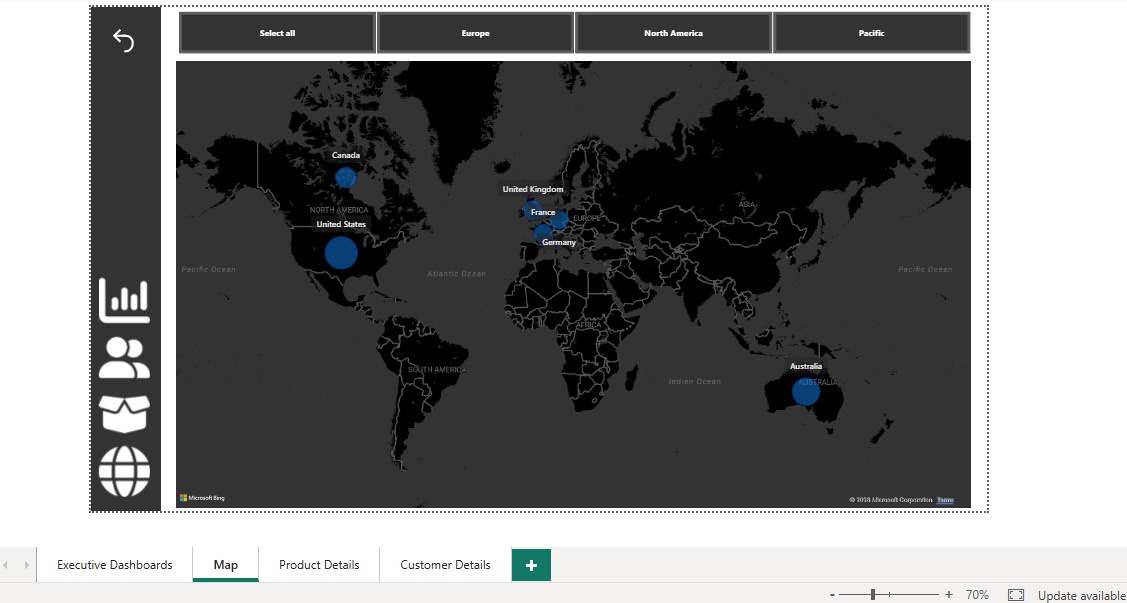

Layout of this report page (visuals, bound fields, positions):
{"tool":"powerbi","page":{"name":"Map","canvas":[1280,720],"ordinal":1},"visuals":[{"type":"shape","title":"Left Nav","box":[0,0,100,720],"z":0},{"type":"map","fields":{"Category":["teritorry_VW.Country"],"Size":["Measure.Total Orders"]},"box":[117.5,72.5,1145,647.5],"z":1000},{"type":"slicer","fields":{"Values":["teritorry_VW.Continent"]},"box":[100,0,1180,72.5],"z":2000},{"type":"actionButton","box":[24.3,22.9,44.3,50],"z":2001},{"type":"actionButton","box":[7.1,460,85.7,81.4],"z":2002},{"type":"actionButton","box":[7.1,378.6,85.7,81.4],"z":2003},{"type":"actionButton","box":[7.1,541.4,85.7,81.4],"z":2004},{"type":"actionButton","box":[7.1,622.9,85.7,81.4],"z":2005}]}

Visuals, with their boxes on the page's 1280x720 design canvas (x1, y1, x2, y2). These are canvas units, not pixel positions in the 1127x603 screenshot, which may show the page scaled, cropped or inside an application window:
"Left Nav" shape: [left=0, top=0, right=100, bottom=720]
map - teritorry_VW.Country x Measure.Total Orders: [left=118, top=72, right=1262, bottom=720]
slicer - teritorry_VW.Continent: [left=100, top=0, right=1280, bottom=72]
actionButton: [left=24, top=23, right=69, bottom=73]
actionButton: [left=7, top=460, right=93, bottom=541]
actionButton: [left=7, top=379, right=93, bottom=460]
actionButton: [left=7, top=541, right=93, bottom=623]
actionButton: [left=7, top=623, right=93, bottom=704]
